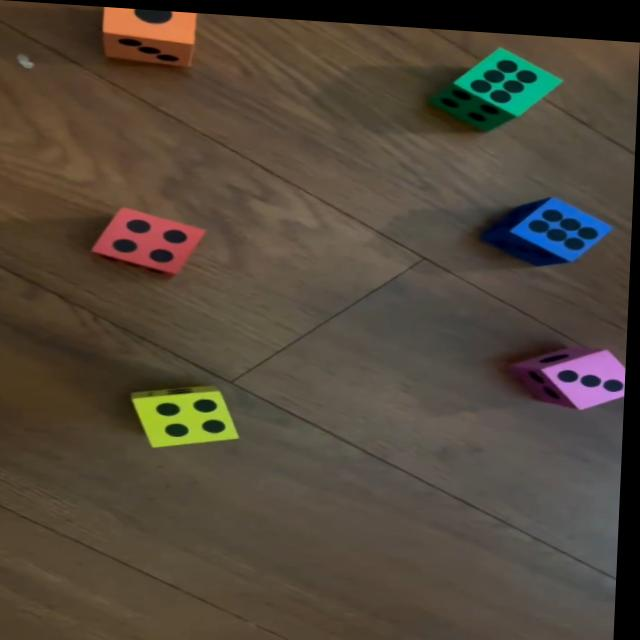blue_block: (482, 184, 612, 261)
red_block: (94, 204, 210, 278)
